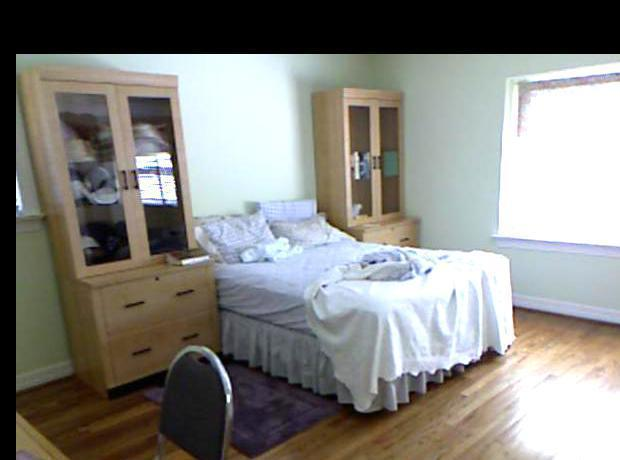Armario: (30, 65, 220, 400)
